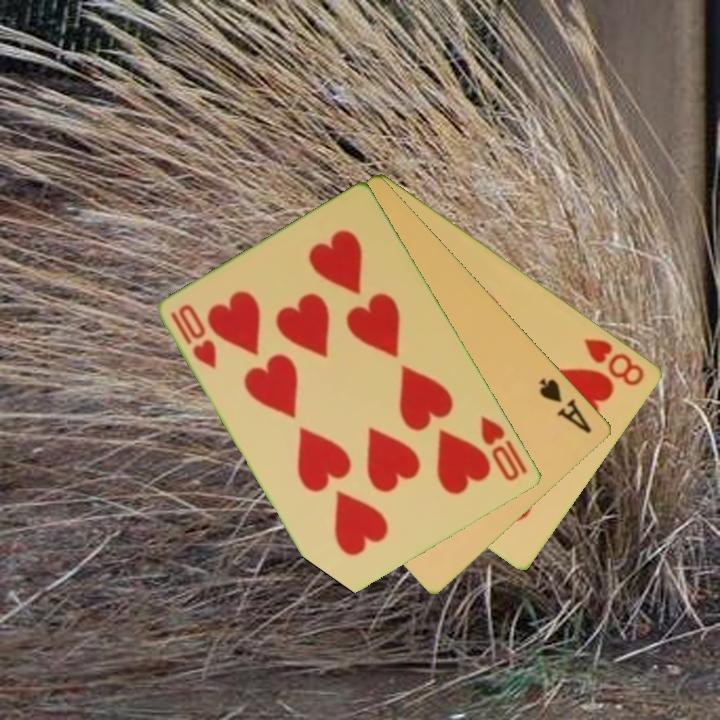10h: (167, 300, 221, 372), (477, 411, 523, 485)
8h: (580, 334, 648, 389)
As: (536, 374, 595, 437)
